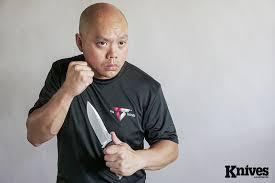Knife: (26, 3, 179, 183), (86, 101, 115, 148), (104, 139, 137, 176)
